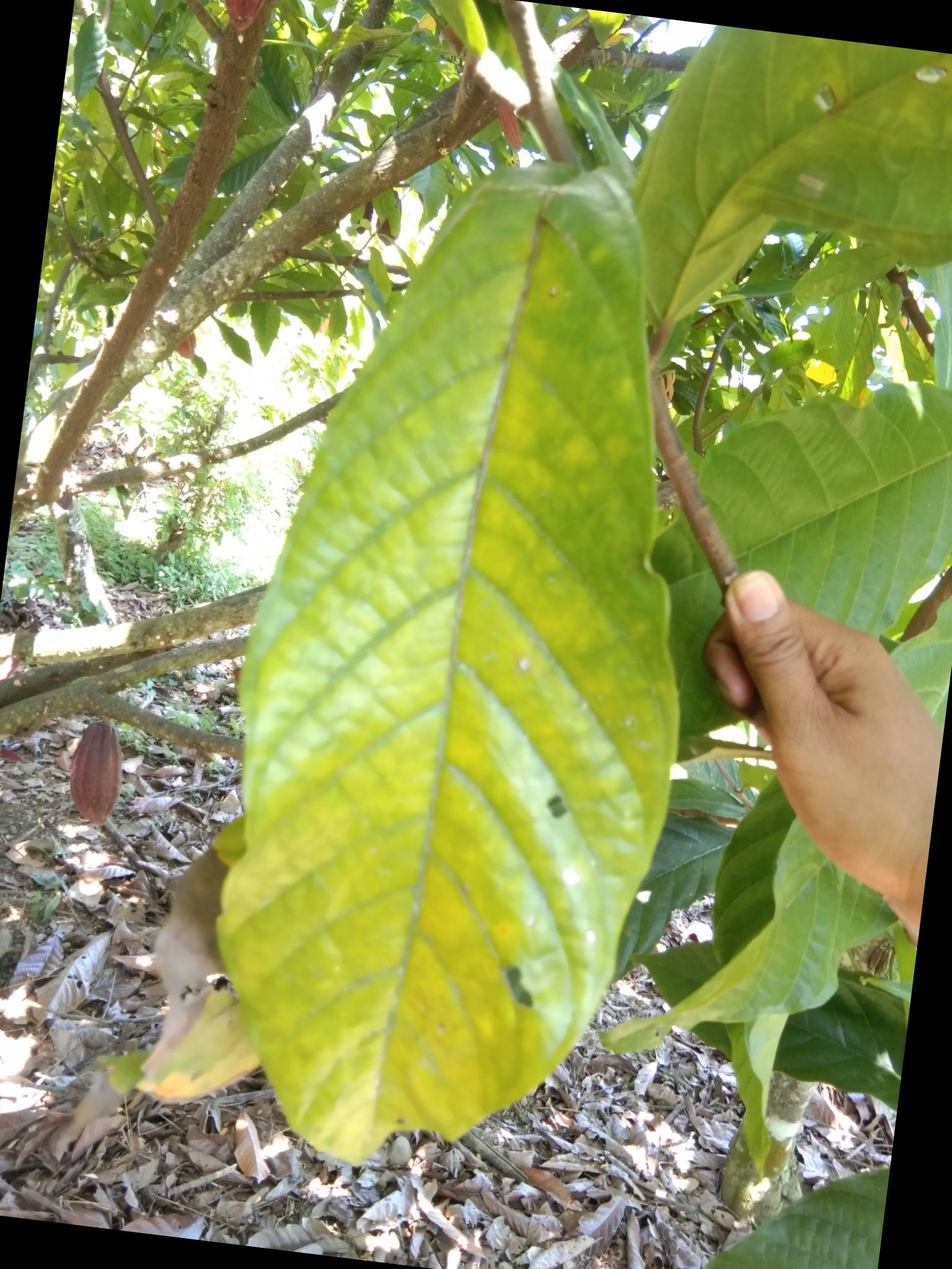Fosforo: (196, 159, 702, 1182)
